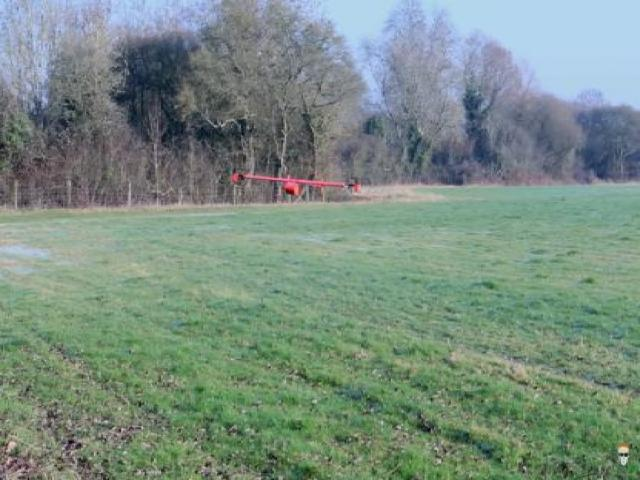uav: (244, 170, 350, 200)
